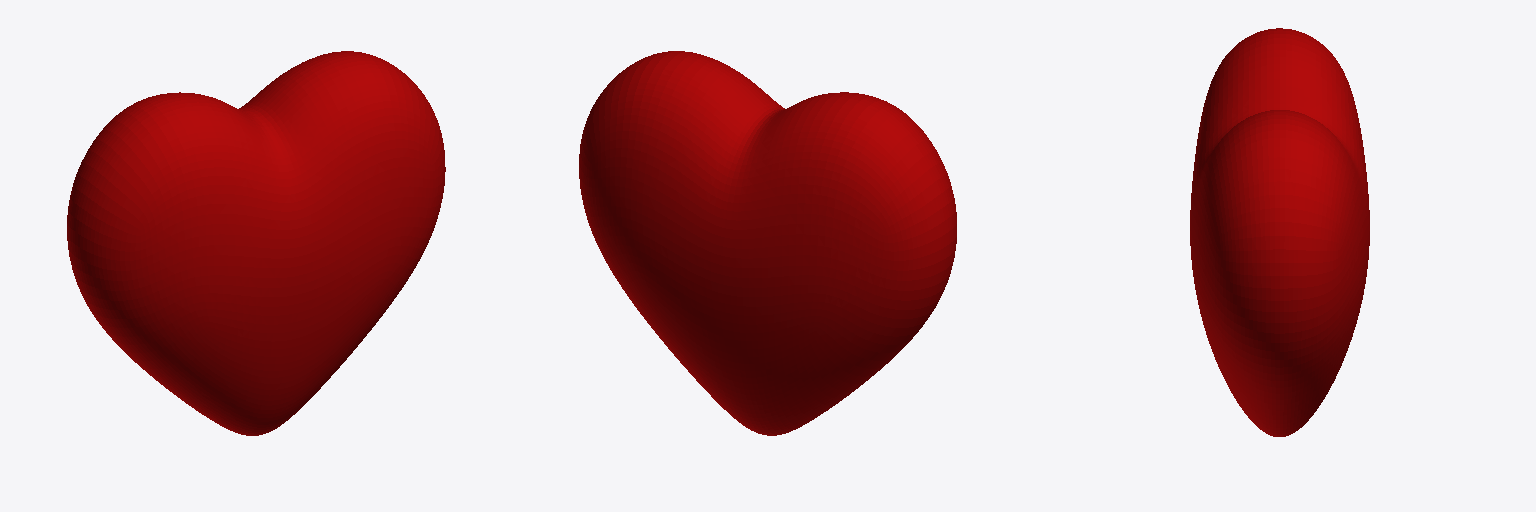
Rendered from heart.obj.
The picture shows the model from 3 angles: view 1: azimuth 30°, elevation 25°; view 2: azimuth 150°, elevation 25°; view 3: azimuth 270°, elevation 25°; orthographic projection.
Parts seen in each view (by area): view 1: heart_heart_12190_Heart_v1_L3; view 2: heart_heart_12190_Heart_v1_L3; view 3: heart_heart_12190_Heart_v1_L3.
Part boxes in pixels (x1,y1,x2,y2): heart_heart_12190_Heart_v1_L3: (67,51,445,435); heart_heart_12190_Heart_v1_L3: (579,51,956,435); heart_heart_12190_Heart_v1_L3: (1190,28,1369,436).
Bounding box in the file's own units: 21.25 × 19.91 × 9.14.